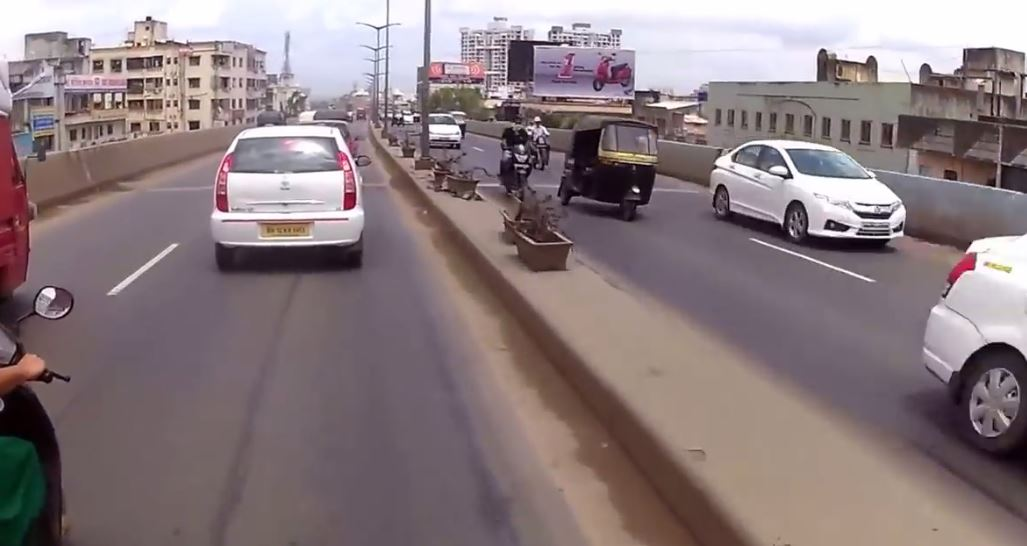autorickshaw: (552, 108, 670, 223)
car: (702, 128, 922, 275), (200, 110, 375, 285), (918, 219, 1027, 459), (427, 108, 459, 154)
